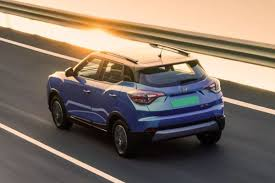XUV 400: (45, 42, 227, 159)
